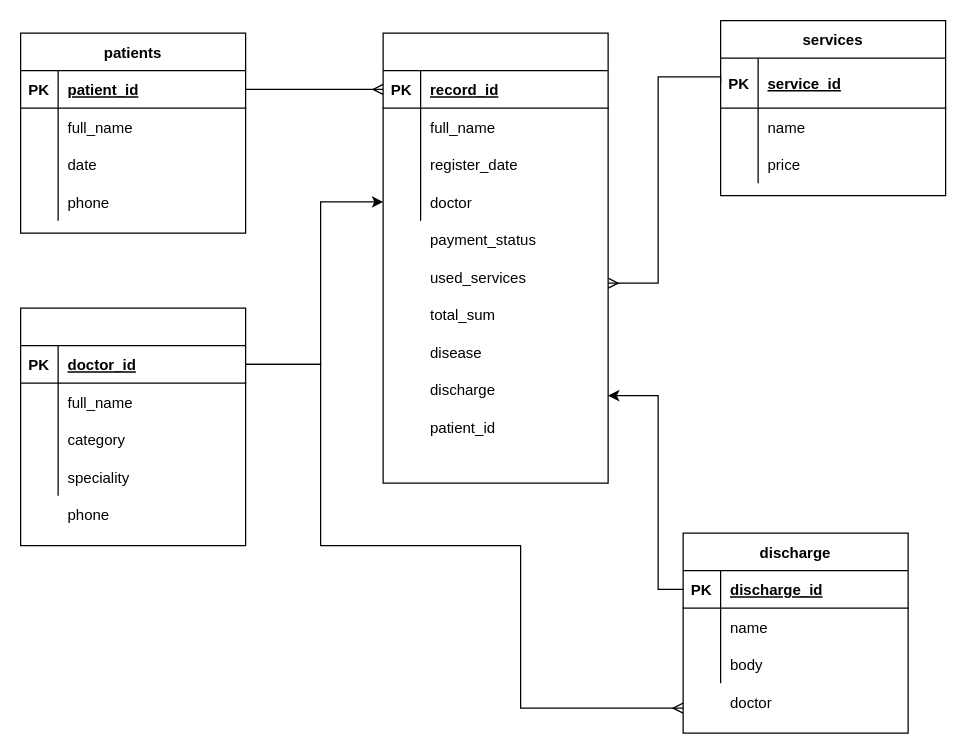
Some shapes in this 966 by 754 pixel diagram are drawn without their labels. The shapes that lost their labels are listed below. From the top down, each one's box as (x1, y1, x2, y2) in pixels, then its label:
(382, 32, 608, 483): records
(19, 307, 246, 546): doctors
